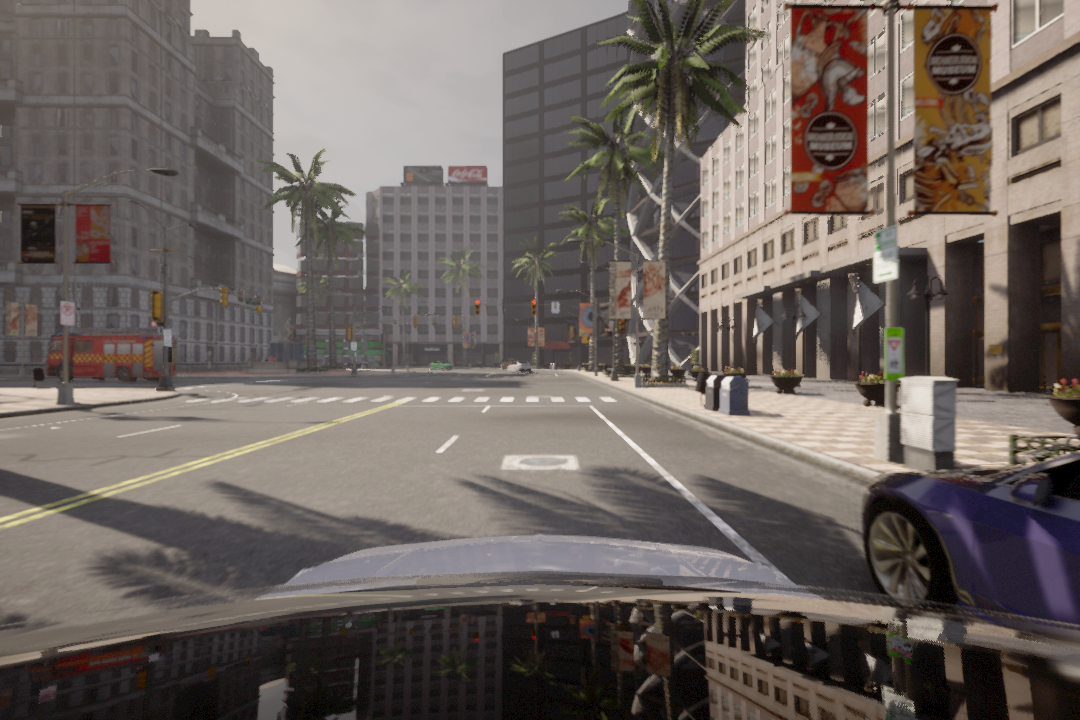TrafficLight: (529, 297, 539, 317), (474, 298, 481, 316)
walkside: (182, 394, 627, 406)
